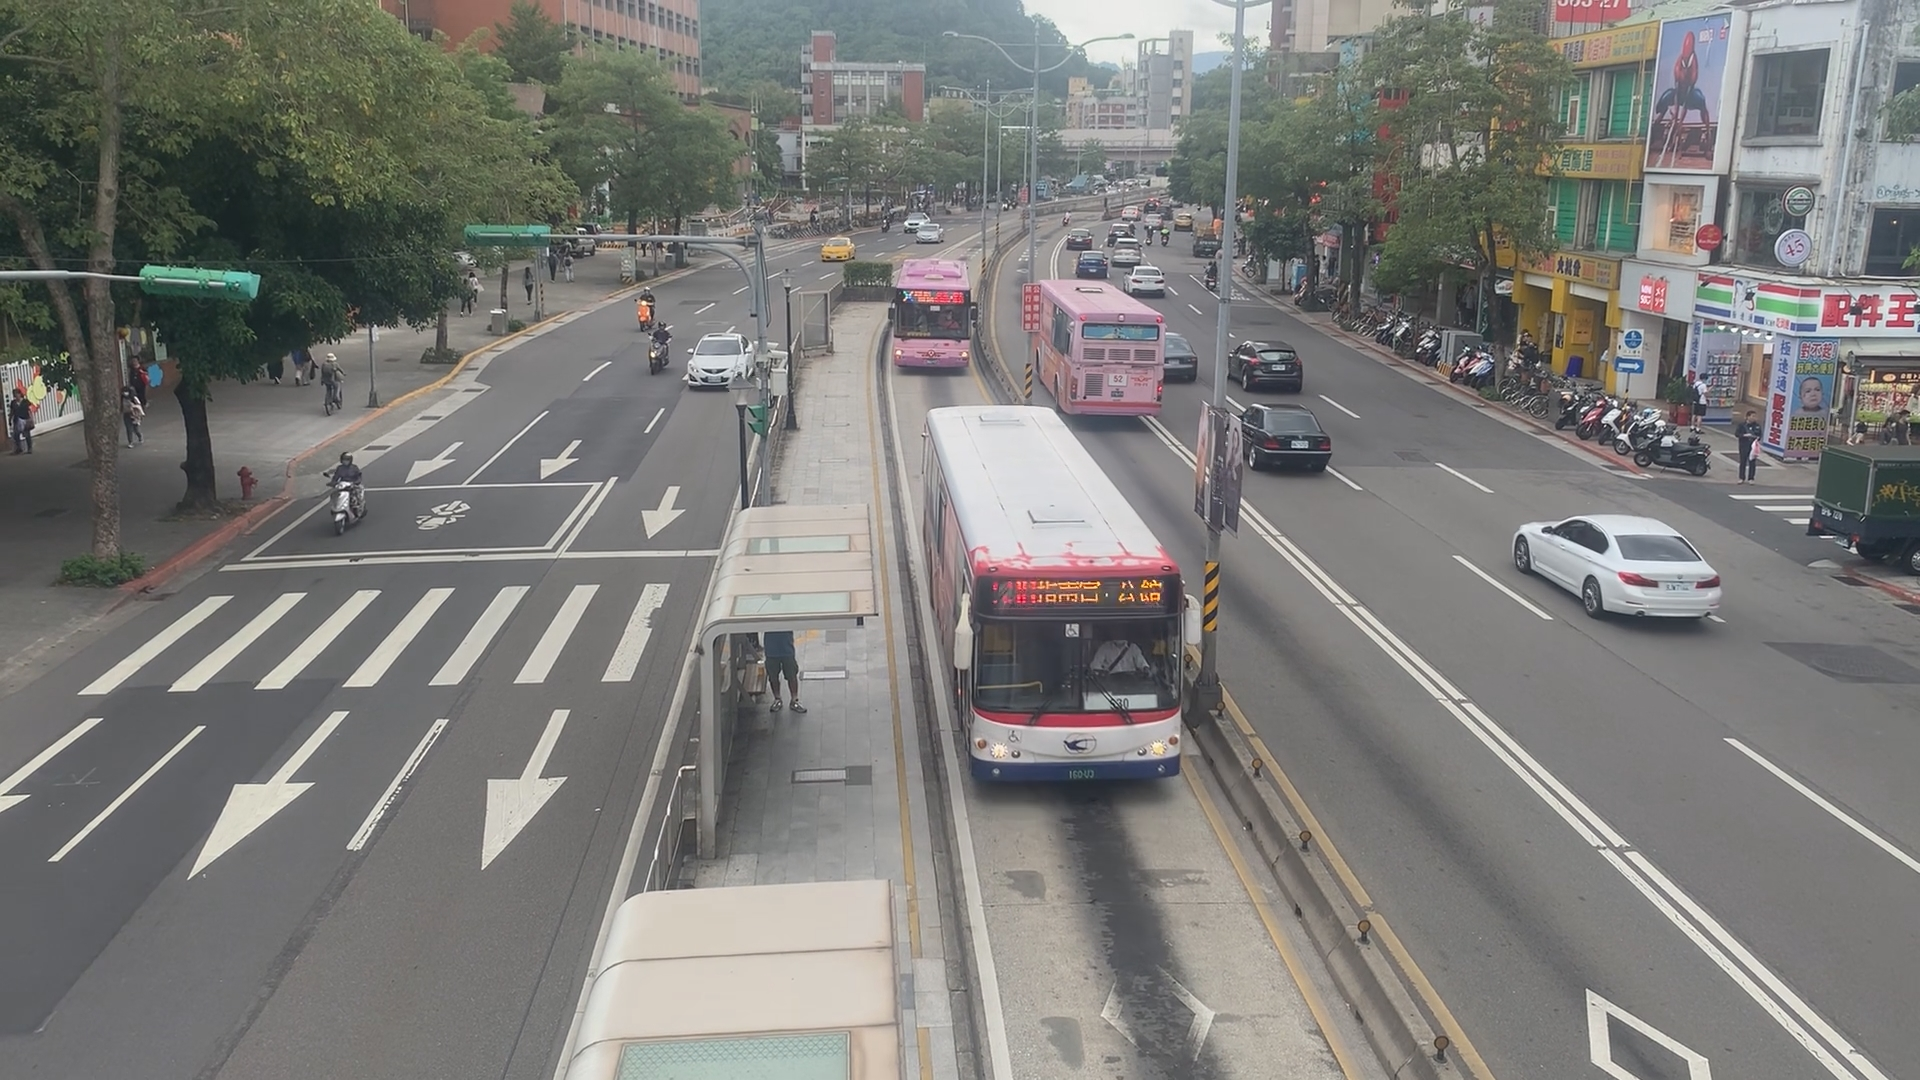Bus: (919, 401, 1179, 800), (1023, 276, 1172, 419), (897, 257, 965, 367)
Business Passenger Car: (818, 229, 852, 262)
Motorcycle: (313, 443, 380, 538), (644, 322, 674, 375), (632, 282, 662, 324), (1158, 223, 1176, 253)
Private Passenger Car: (1498, 505, 1735, 632), (1229, 402, 1338, 473), (1232, 336, 1311, 393), (687, 331, 754, 394), (1164, 324, 1197, 385), (1073, 247, 1116, 280), (1124, 262, 1163, 295), (1106, 237, 1145, 269), (1062, 227, 1095, 251), (916, 220, 942, 245), (903, 214, 928, 229)
